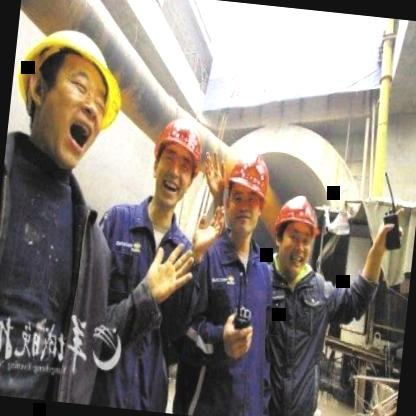helmet: (4, 9, 139, 176), (142, 112, 214, 226), (216, 150, 275, 250), (267, 192, 323, 278)
